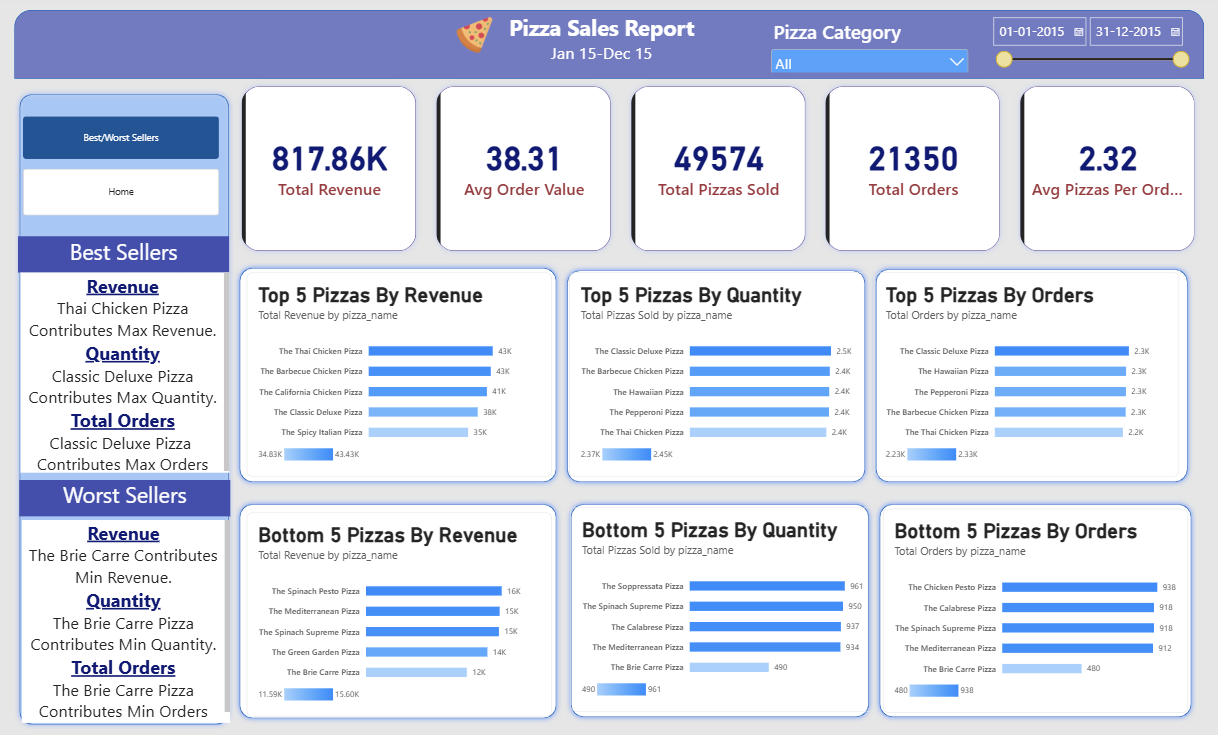

Layout of this report page (visuals, bound fields, positions):
{"tool":"powerbi","page":{"name":"Best/Worst Sellers","canvas":[1800,1100],"ordinal":1},"visuals":[{"type":"cardVisual","fields":{"Data":["pizza_sales_excel_file.Total Revenue","pizza_sales_excel_file.Avg Order Value","pizza_sales_excel_file.Total Pizzas Sold","pizza_sales_excel_file.Total Orders","pizza_sales_excel_file.Avg Pizzas Per Order"]},"box":[348.4,123.5,1430.5,265.5],"z":0},{"type":"shape","box":[24,22.1,1754.7,101.4],"z":1000},{"type":"textbox","box":[672.8,25.8,435,92.2],"z":2000},{"type":"image","box":[670.9,31.3,63.3,55.6],"z":3000},{"type":"shape","box":[348.4,394.4,482.9,331.8],"z":4000},{"type":"shape","box":[24,138.2,324.4,945.5],"z":14000},{"type":"textbox","box":[28.9,355.1,311.5,53.5],"z":15000},{"type":"textbox","box":[32.8,409.1,307.8,294.9],"z":16000},{"type":"textbox","box":[30.9,715.9,311.5,53.5],"z":17000},{"type":"textbox","box":[34.7,773.8,306.8,299.1],"z":18000},{"type":"slicer","fields":{"Values":["pizza_sales_excel_file.pizza_category"]},"box":[1135.4,35,300.4,79.3],"z":19000},{"type":"slicer","fields":{"Values":["pizza_sales_excel_file.order_date"]},"box":[1459.8,25.8,300.4,99.5],"z":20000},{"type":"shape","box":[831.3,398.1,455.3,328.1],"z":20001},{"type":"shape","box":[1286.5,396.3,475.5,329.9],"z":20002},{"type":"shape","box":[348.4,742.8,482.9,331.8],"z":20003},{"type":"shape","box":[836.8,742.8,455.3,329.9],"z":20004},{"type":"shape","box":[1292.1,742.8,475.5,329.9],"z":20005},{"type":"barChart","title":"Top 5 Pizzas By Revenue","fields":{"Category":["pizza_sales_excel_file.pizza_name"],"Y":["pizza_sales_excel_file.Total Revenue"]},"box":[366.6,409.1,449.6,301],"z":20006},{"type":"barChart","title":"Bottom 5 Pizzas By Revenue","fields":{"Category":["pizza_sales_excel_file.pizza_name"],"Y":["pizza_sales_excel_file.Total Revenue"]},"box":[366.8,763.1,449.6,301],"z":20007},{"type":"barChart","title":"Top 5 Pizzas By Quantity","fields":{"Category":["pizza_sales_excel_file.pizza_name"],"Y":["pizza_sales_excel_file.Total Pizzas Sold"]},"box":[842.3,409.2,449.6,301],"z":20008},{"type":"barChart","title":"Bottom 5 Pizzas By Quantity","fields":{"Category":["pizza_sales_excel_file.pizza_name"],"Y":["pizza_sales_excel_file.Total Pizzas Sold"]},"box":[843.3,756.4,449.6,301],"z":20009},{"type":"barChart","title":"Top 5 Pizzas By Orders","fields":{"Category":["pizza_sales_excel_file.pizza_name"],"Y":["pizza_sales_excel_file.Total Orders"]},"box":[1292.9,409.1,449.6,301],"z":20010},{"type":"barChart","title":"Bottom 5 Pizzas By Orders","fields":{"Category":["pizza_sales_excel_file.pizza_name"],"Y":["pizza_sales_excel_file.Total Orders"]},"box":[1305,757.5,449.6,301],"z":20011},{"type":"pageNavigator","box":[36.7,179.5,289.5,63.7],"z":20012},{"type":"pageNavigator","box":[36.7,256.6,289.5,69.5],"z":20013}]}

Visuals, with their boxes in screenshot pixels (x1, y1, x2, y2), scaled from the page's 1800x1100 canvas onto the 1218x735 screenshot:
cardVisual - pizza_sales_excel_file.Total Revenue x pizza_sales_excel_file.Avg Order Value: bbox=[236, 83, 1204, 260]
shape: bbox=[16, 15, 1204, 83]
textbox: bbox=[455, 17, 750, 79]
image: bbox=[454, 21, 497, 58]
shape: bbox=[236, 264, 563, 485]
shape: bbox=[16, 92, 236, 724]
textbox: bbox=[20, 237, 230, 273]
textbox: bbox=[22, 273, 230, 470]
textbox: bbox=[21, 478, 232, 514]
textbox: bbox=[23, 517, 231, 717]
slicer - pizza_sales_excel_file.pizza_category: bbox=[768, 23, 972, 76]
slicer - pizza_sales_excel_file.order_date: bbox=[988, 17, 1191, 84]
shape: bbox=[563, 266, 871, 485]
shape: bbox=[871, 265, 1192, 485]
shape: bbox=[236, 496, 563, 718]
shape: bbox=[566, 496, 874, 717]
shape: bbox=[874, 496, 1196, 717]
"Top 5 Pizzas By Revenue" barChart: bbox=[248, 273, 552, 474]
"Bottom 5 Pizzas By Revenue" barChart: bbox=[248, 510, 552, 711]
"Top 5 Pizzas By Quantity" barChart: bbox=[570, 273, 874, 475]
"Bottom 5 Pizzas By Quantity" barChart: bbox=[571, 505, 875, 707]
"Top 5 Pizzas By Orders" barChart: bbox=[875, 273, 1179, 474]
"Bottom 5 Pizzas By Orders" barChart: bbox=[883, 506, 1187, 707]
pageNavigator: bbox=[25, 120, 221, 163]
pageNavigator: bbox=[25, 171, 221, 218]
